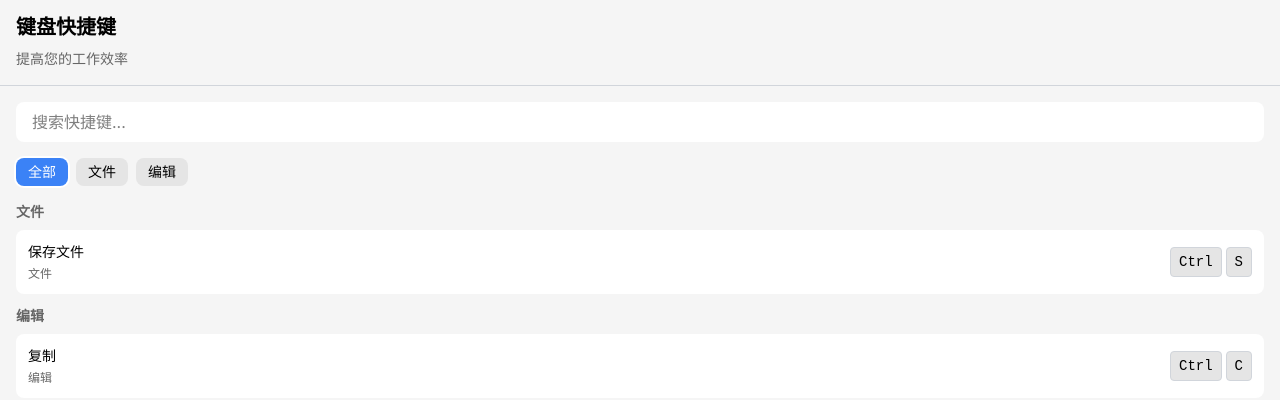
KeyboardShortcuts › 分类筛选 › 应该切换到全部分类
Click the button "文件": click(102, 172) [76,158,128,186]
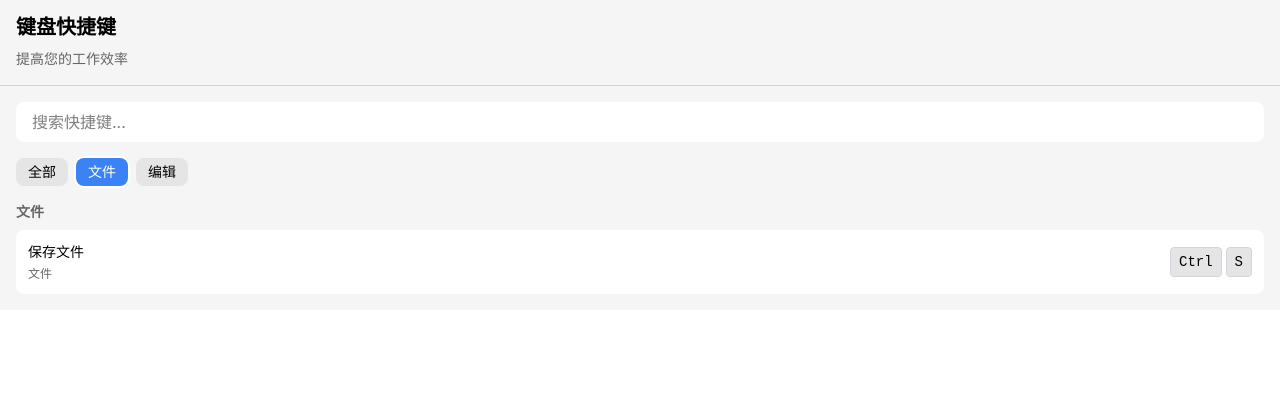
Click the button "全部": click(42, 172) [16,158,68,186]
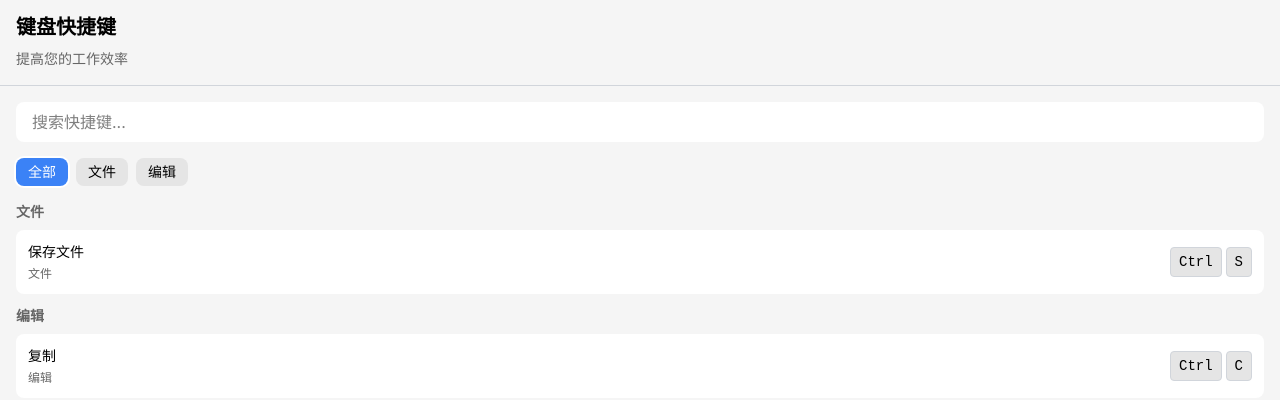
Expected: the text "保存文件" is shown, [28,243,84,260]
Result: the text "复制" is shown at [28,347,56,364]
